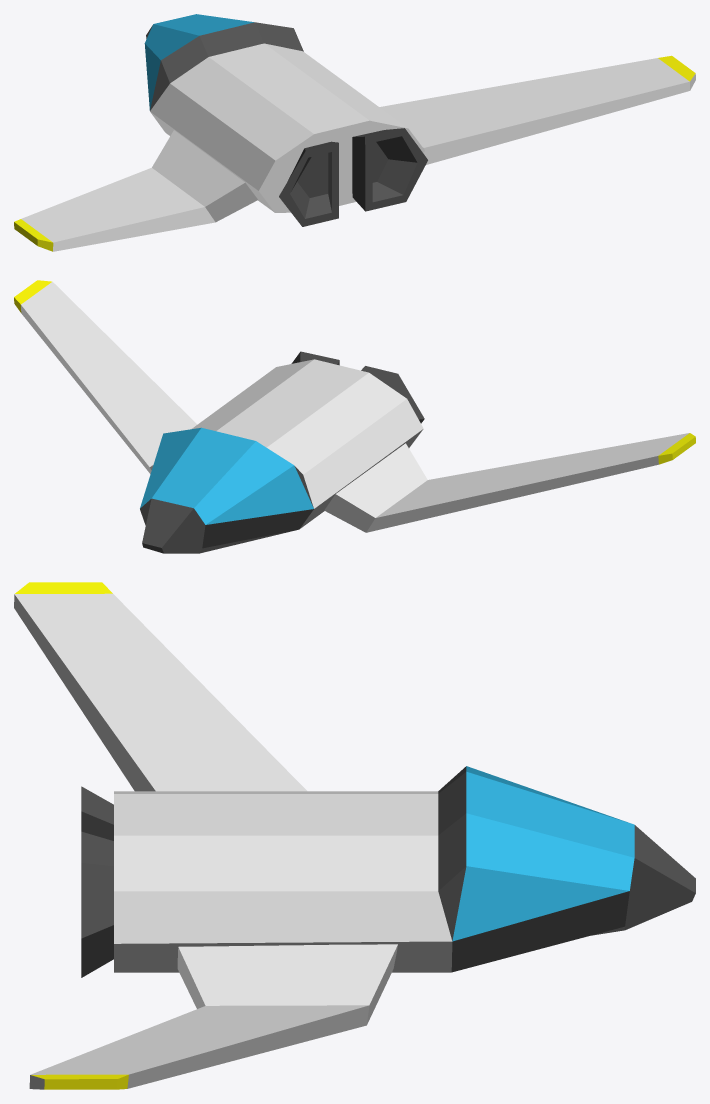
The model's file is SpaceShip.fbx.
3 renders of one model, top to bottom at view 1: azimuth 30°, elevation 25°; view 2: azimuth 150°, elevation 25°; view 3: azimuth 270°, elevation 25°, orthographic. The views are drawn at different scales.
Visible parts, largest first — view 1: Body, RWing, LWings; view 2: Body, LWings, RWing; view 3: Body, LWings, RWing.
Boxes of the visible parts, x1,y1,x2,y2 form: Body: (144,14,427,226); RWing: (379,55,695,164); LWings: (14,130,257,251); Body: (140,351,424,553); LWings: (324,433,695,532); RWing: (14,280,197,473); Body: (81,766,695,977); LWings: (14,582,306,791); RWing: (29,944,397,1089).
Size of the model in its own units: 798 by 118 by 462.
